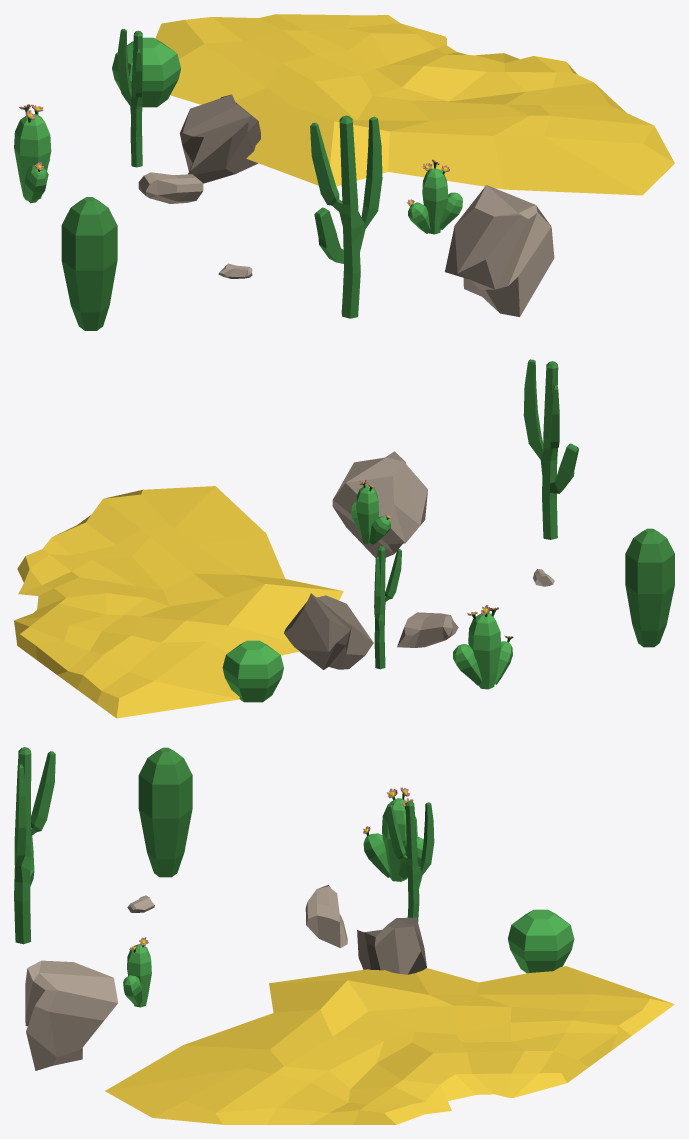
File: street4_01_6.fbx
3 views of the same model, one above another, from view 1: azimuth 30°, elevation 25°; view 2: azimuth 150°, elevation 25°; view 3: azimuth 270°, elevation 25° (orthographic). The views are drawn at different scales.
Parts seen in each view (by area): view 1: sandway01x01, stonii.002, cactusBig, cactusHerEx.001, stonii.001, cactusMulti, cactusYou, cactusMulti.001, cactusBig.001, stones.022; view 2: sandway01x01, stonii.002, cactusHerEx.001, cactusBig, stonii.001, cactusMulti, cactusYou, cactusBig.001, stones.022, cactusMulti.001; view 3: sandway01x01, stonii.002, cactusHerEx.001, cactusBig, cactusYou, stonii.001, cactusBig.001, cactusMulti, stones.022, cactusMulti.001.
Part boxes in pixels (bbox=[...]): sandway01x01: bbox=[155, 14, 674, 195]; stonii.002: bbox=[445, 185, 554, 316]; cactusBig: bbox=[310, 115, 382, 318]; cactusHerEx.001: bbox=[61, 197, 117, 330]; stonii.001: bbox=[179, 94, 260, 183]; cactusMulti: bbox=[14, 104, 51, 203]; cactusYou: bbox=[112, 37, 180, 107]; cactusMulti.001: bbox=[406, 159, 462, 234]; cactusBig.001: bbox=[117, 29, 142, 167]; stones.022: bbox=[138, 172, 203, 203]; sandway01x01: bbox=[14, 486, 343, 718]; stonii.002: bbox=[332, 451, 427, 557]; cactusHerEx.001: bbox=[625, 528, 674, 647]; cactusBig: bbox=[523, 359, 578, 539]; stonii.001: bbox=[284, 593, 373, 669]; cactusMulti: bbox=[453, 605, 513, 689]; cactusYou: bbox=[222, 640, 283, 702]; cactusBig.001: bbox=[374, 546, 401, 669]; stones.022: bbox=[397, 612, 458, 647]; cactusMulti.001: bbox=[350, 480, 390, 544]; sandway01x01: bbox=[105, 966, 674, 1124]; stonii.002: bbox=[25, 960, 117, 1070]; cactusHerEx.001: bbox=[138, 747, 192, 877]; cactusBig: bbox=[14, 747, 55, 944]; cactusYou: bbox=[508, 909, 574, 973]; stonii.001: bbox=[357, 917, 426, 974]; cactusBig.001: bbox=[387, 801, 434, 921]; cactusMulti: bbox=[363, 787, 423, 881]; stones.022: bbox=[305, 885, 347, 947]; cactusMulti.001: bbox=[123, 937, 151, 1007].
Size of the model in its own units: 88.43 by 34.09 by 85.66.
